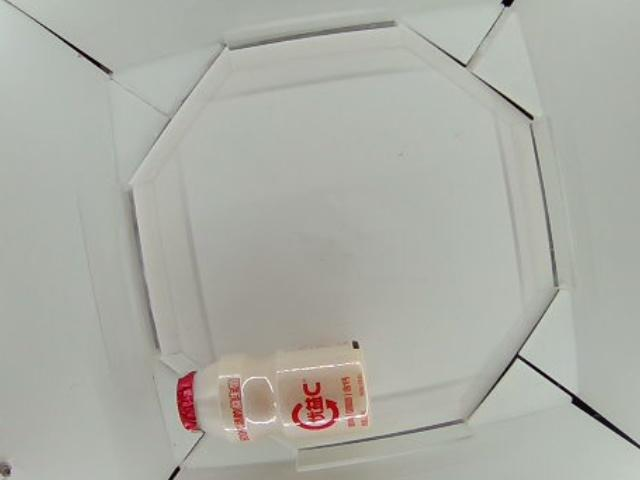Bottle: (171, 343, 375, 442)
